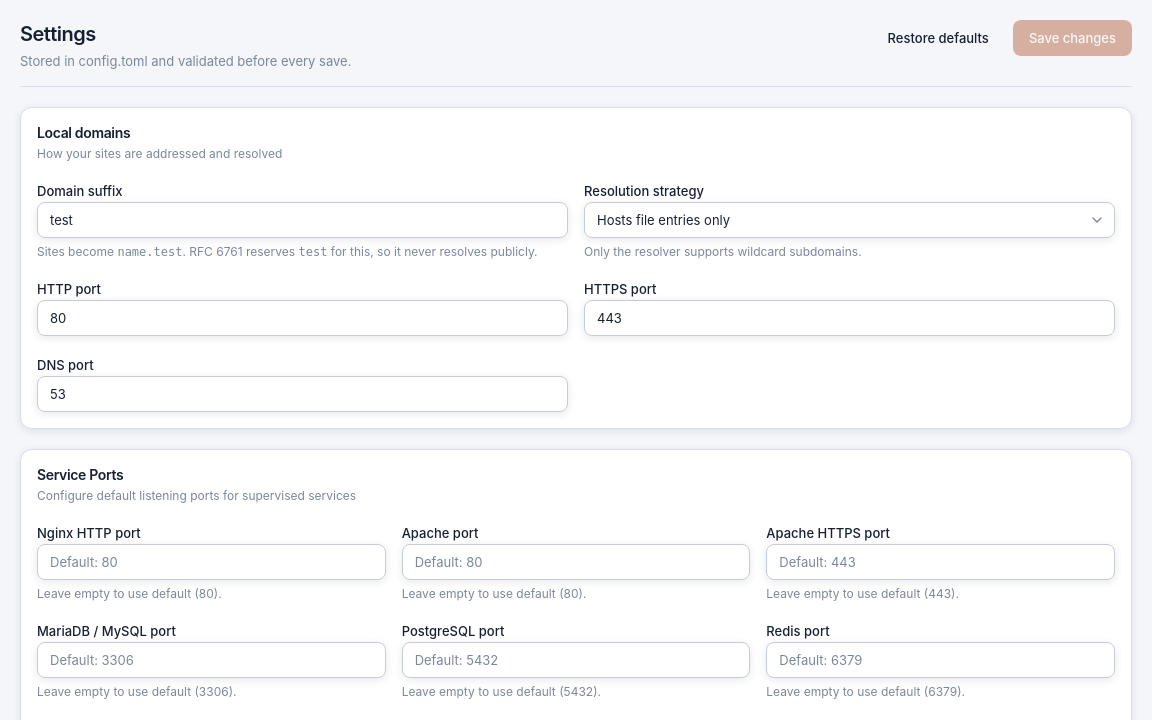
Test: SettingsPage › shows the validation error and hint when the backend rejects a value
The image size is (1152, 720).
Clear the field labelled "Domain suffix" at (302, 220), box left=37, top=202, right=568, bottom=238
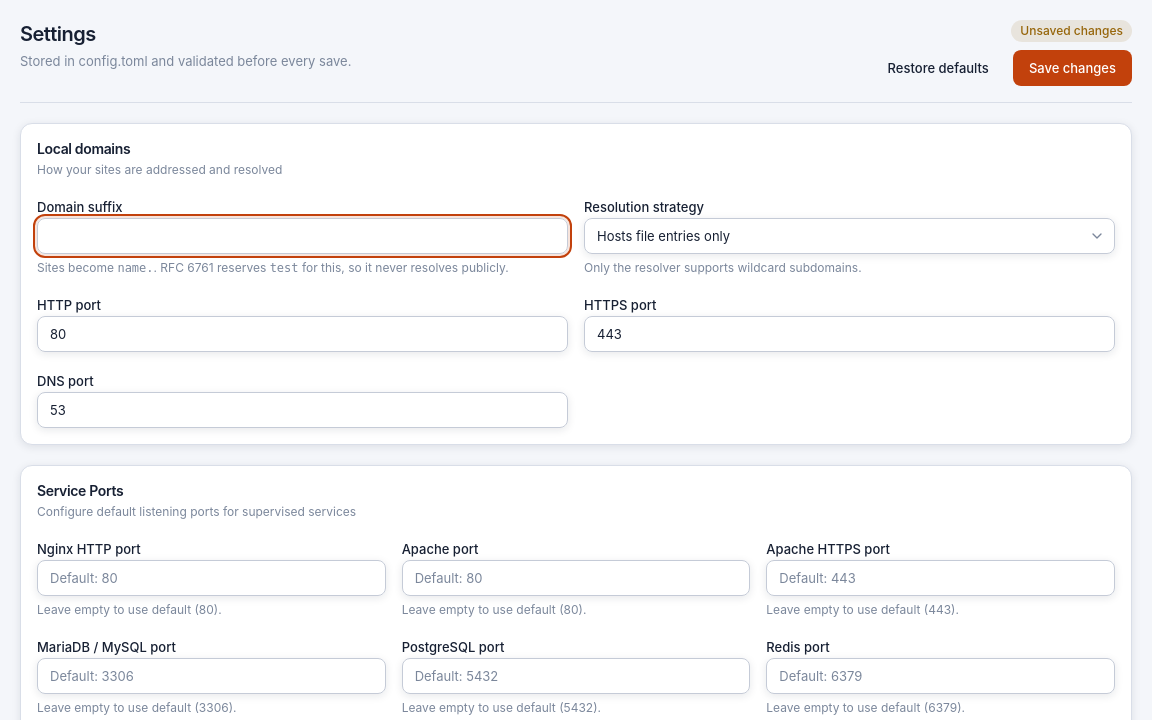
Type "dev.local" into the field labelled "Domain suffix" at (302, 236), box left=37, top=218, right=568, bottom=254
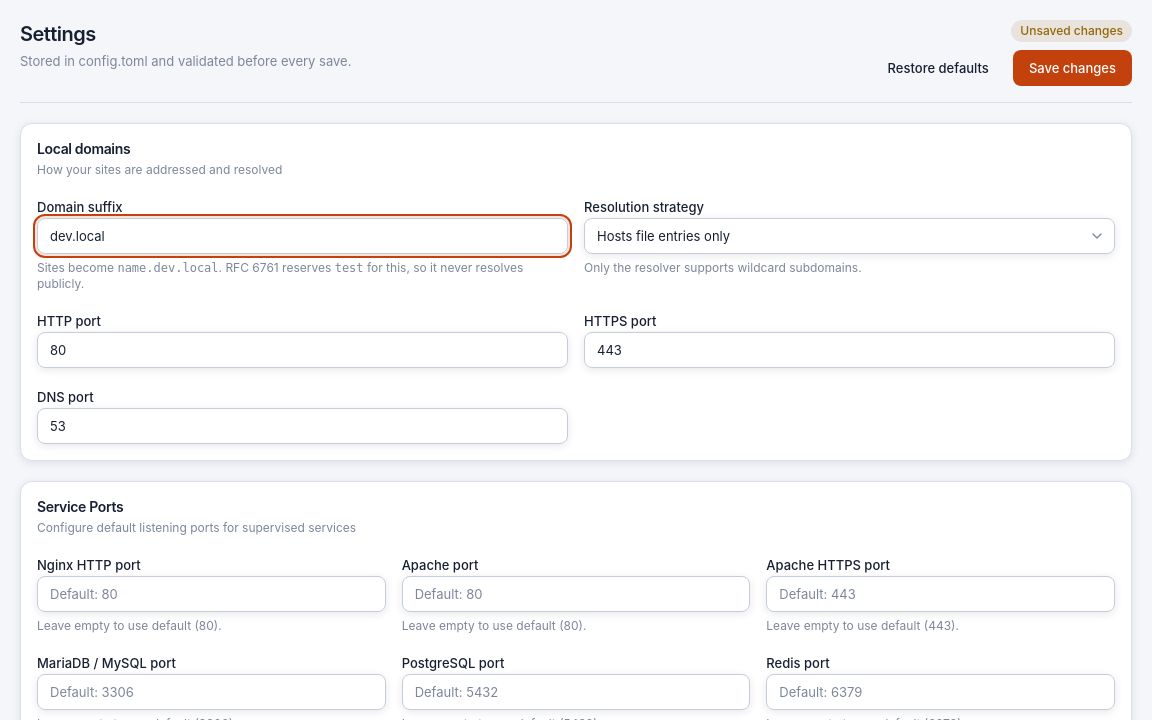
Click the button "Save changes" at (1072, 68), box left=1013, top=50, right=1132, bottom=86
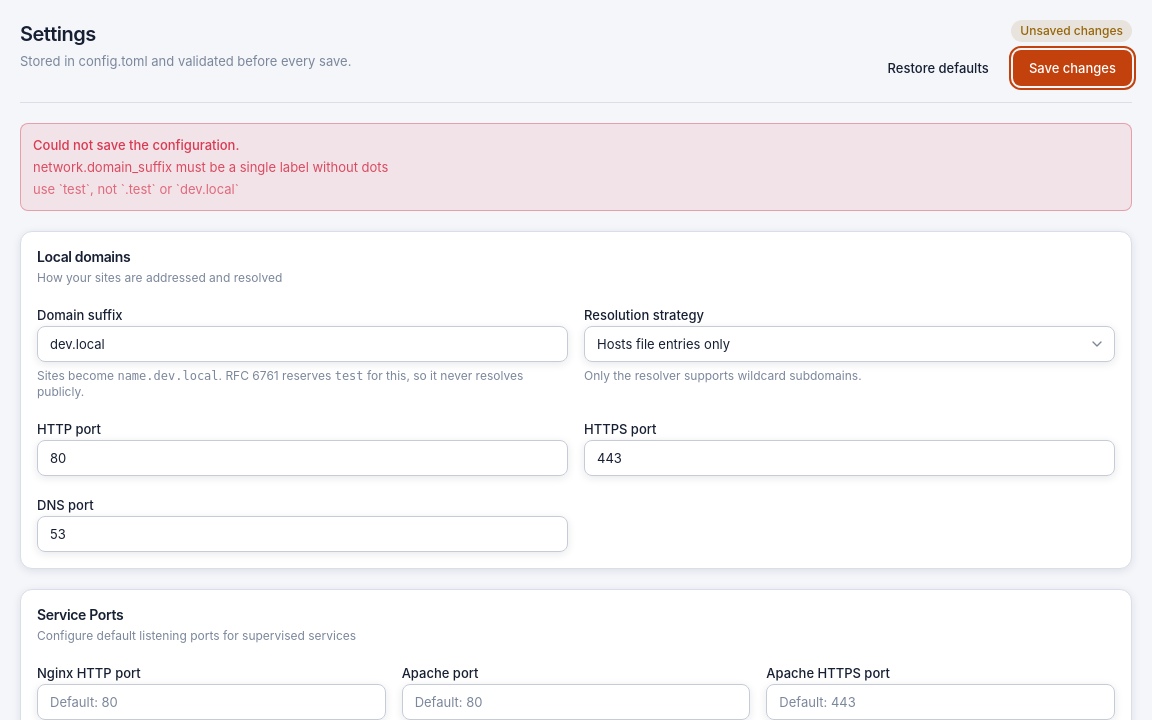
expect the message shows "must be a single label without dots": met, box left=33, top=159, right=388, bottom=175
expect the message shows "use `test`, not `.test` or `dev.local`": met, box left=33, top=181, right=239, bottom=197
